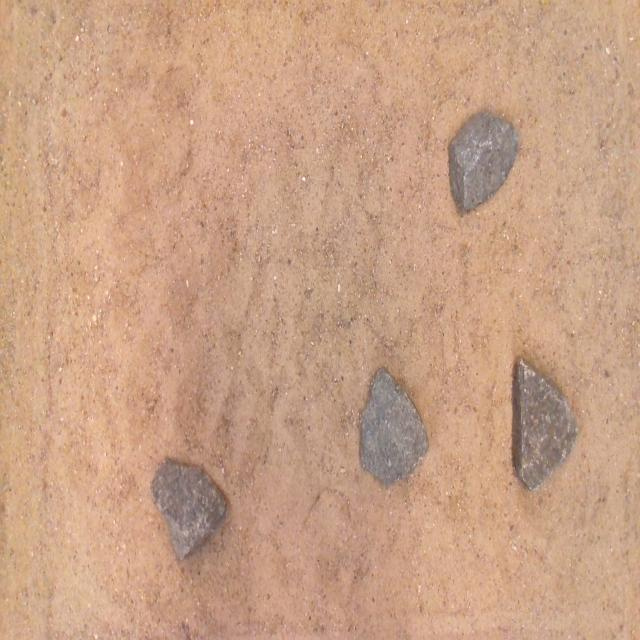rock: (512, 359, 577, 489), (360, 367, 428, 486), (151, 457, 226, 559), (449, 111, 518, 210)
